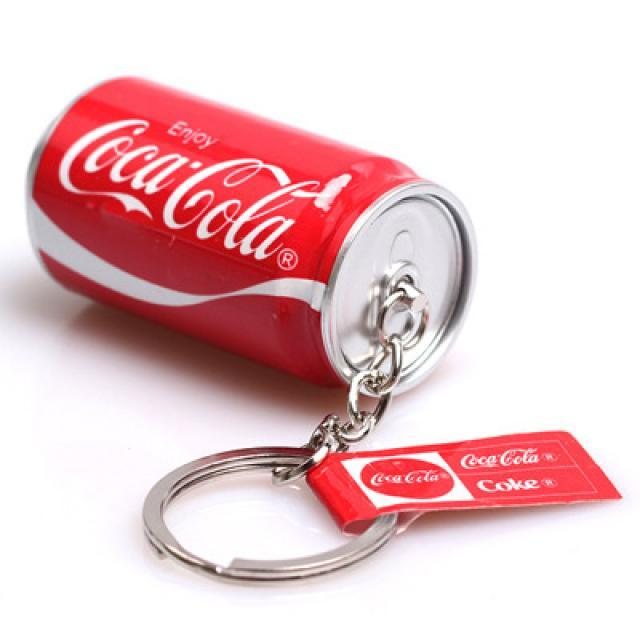coca-cola: (20, 73, 482, 403)
